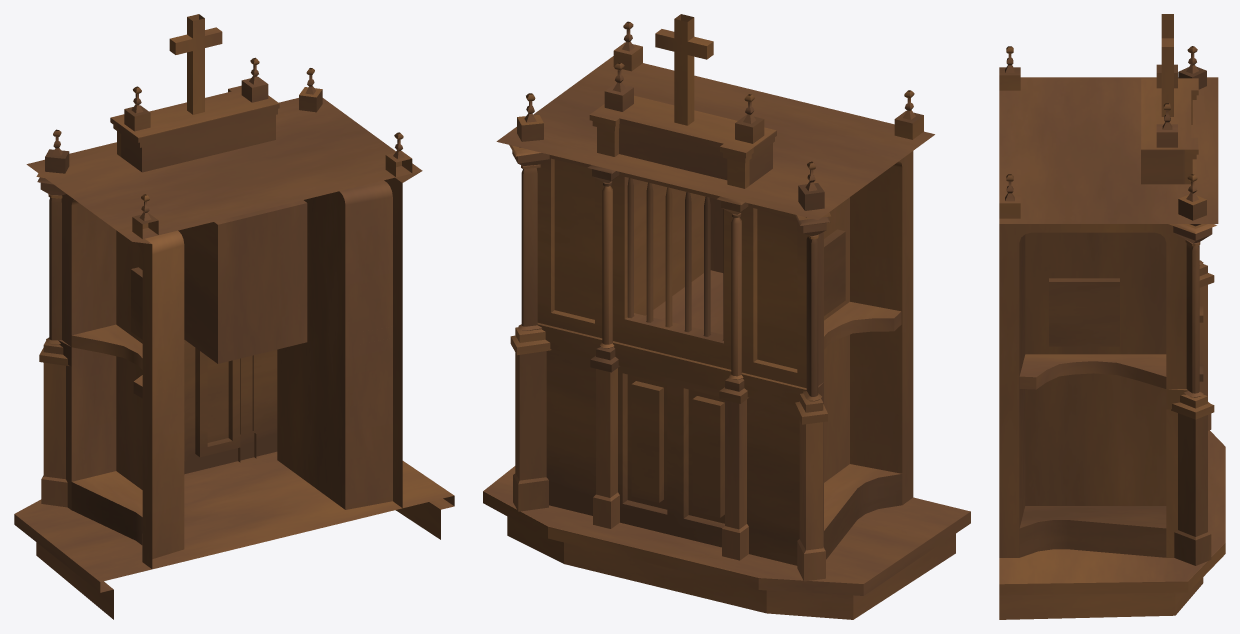
File: Confesionario1.fbx
3 renders of one model, left to right at view 1: azimuth 30°, elevation 25°; view 2: azimuth 150°, elevation 25°; view 3: azimuth 270°, elevation 25°, orthographic. The views are drawn at different scales.
Parts seen in each view (by area): view 1: Cube.024, Cube.022, Cube.029, Cube.020, Cube.053, Cube.001, Cube.026; view 2: Cube.024, Cube.022, Cube.020, Cube.009, Cube.029, Cube.053, Cube.023, Cube.001, Cube.026; view 3: Cube.024, Cube.022, Cube.053, Cube.020, Cube.029, Cube.001, Cube.026.
Part boxes in pixels (x1,y1,x2,y2): Cube.024: (26, 98, 422, 568); Cube.022: (14, 451, 454, 619); Cube.029: (110, 85, 279, 172); Cube.020: (36, 173, 69, 507); Cube.053: (71, 324, 142, 561); Cube.001: (45, 57, 412, 238); Cube.026: (169, 14, 222, 114); Cube.024: (496, 56, 934, 565); Cube.022: (483, 466, 970, 619); Cube.020: (509, 145, 830, 581); Cube.009: (587, 165, 748, 560); Cube.029: (589, 95, 776, 188); Cube.053: (824, 302, 902, 559); Cube.023: (627, 178, 723, 340); Cube.001: (517, 21, 923, 210); Cube.026: (655, 14, 713, 125); Cube.024: (999, 77, 1218, 557); Cube.022: (999, 430, 1225, 619); Cube.053: (1019, 354, 1166, 557); Cube.020: (1168, 224, 1216, 565); Cube.029: (1141, 78, 1198, 184); Cube.001: (999, 46, 1206, 220); Cube.026: (1161, 14, 1173, 116).
Bounding box in the file's own units: 201 × 273 × 108.
